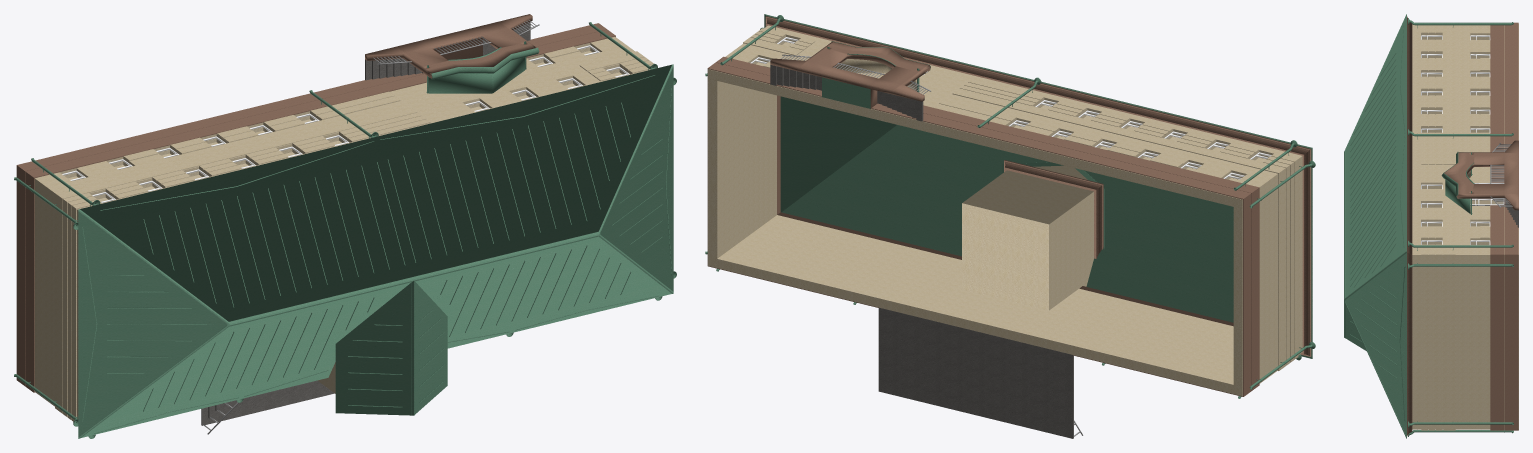
Rendered from House Building Admins N131124.obj.
The picture shows the model from 3 angles, left to right: view 1: azimuth 30°, elevation 25°; view 2: azimuth 150°, elevation 25°; view 3: azimuth 270°, elevation 25°; orthographic projection. The views are drawn at different scales.
Parts seen in each view (by area): view 1: roof, face_B, roof_4, roof_2, face_D, face_B1, face_B_1_, Object0041, porch, face_D1, face_D_1_, Object005 (+6 smaller); view 2: roof, face_A, face_B, porch, balcony, face_C, face_D, ledge, face_B_1_, face_B1, Object0041, face_D_1_ (+8 smaller); view 3: roof, face_B, face_C, roof_4, face_B1, face_C_1_, face_C1, ledge, face_B_1_, Object0041, tube, Object001 (+7 smaller).
Part boxes in pixels (bbox=[...]): roof: bbox=[78, 64, 673, 437]; face_B: bbox=[34, 37, 652, 219]; roof_4: bbox=[78, 64, 673, 438]; roof_2: bbox=[335, 282, 447, 415]; face_D: bbox=[34, 189, 78, 421]; face_B1: bbox=[26, 29, 614, 177]; face_B_1_: bbox=[18, 23, 605, 171]; Object0041: bbox=[365, 14, 536, 73]; porch: bbox=[201, 380, 334, 425]; face_D1: bbox=[25, 171, 34, 392]; face_D_1_: bbox=[16, 165, 25, 385]; Object005: bbox=[428, 57, 524, 93]; roof: bbox=[764, 14, 1312, 358]; face_A: bbox=[708, 215, 1302, 396]; face_B: bbox=[708, 25, 1302, 208]; porch: bbox=[878, 307, 1073, 438]; balcony: bbox=[962, 165, 1093, 310]; face_C: bbox=[708, 28, 776, 258]; face_D: bbox=[1233, 159, 1302, 386]; ledge: bbox=[765, 16, 1311, 356]; face_B_1_: bbox=[708, 62, 1250, 199]; face_B1: bbox=[716, 57, 1258, 192]; Object0041: bbox=[771, 41, 929, 97]; face_D_1_: bbox=[1243, 193, 1251, 396]; roof: bbox=[1345, 15, 1406, 437]; face_B: bbox=[1412, 24, 1518, 263]; face_C: bbox=[1412, 254, 1518, 430]; roof_4: bbox=[1344, 14, 1406, 438]; face_B1: bbox=[1490, 25, 1504, 254]; face_C_1_: bbox=[1504, 254, 1518, 430]; face_C1: bbox=[1490, 254, 1504, 430]; ledge: bbox=[1407, 16, 1412, 436]; face_B_1_: bbox=[1504, 23, 1518, 254]; Object0041: bbox=[1444, 140, 1518, 210]; tube: bbox=[1408, 18, 1513, 436]; Object001: bbox=[1422, 35, 1489, 241].
Size of the model in its own units: 0.0388 by 0.0206 by 0.0119.
8 materials, 4 textured.
